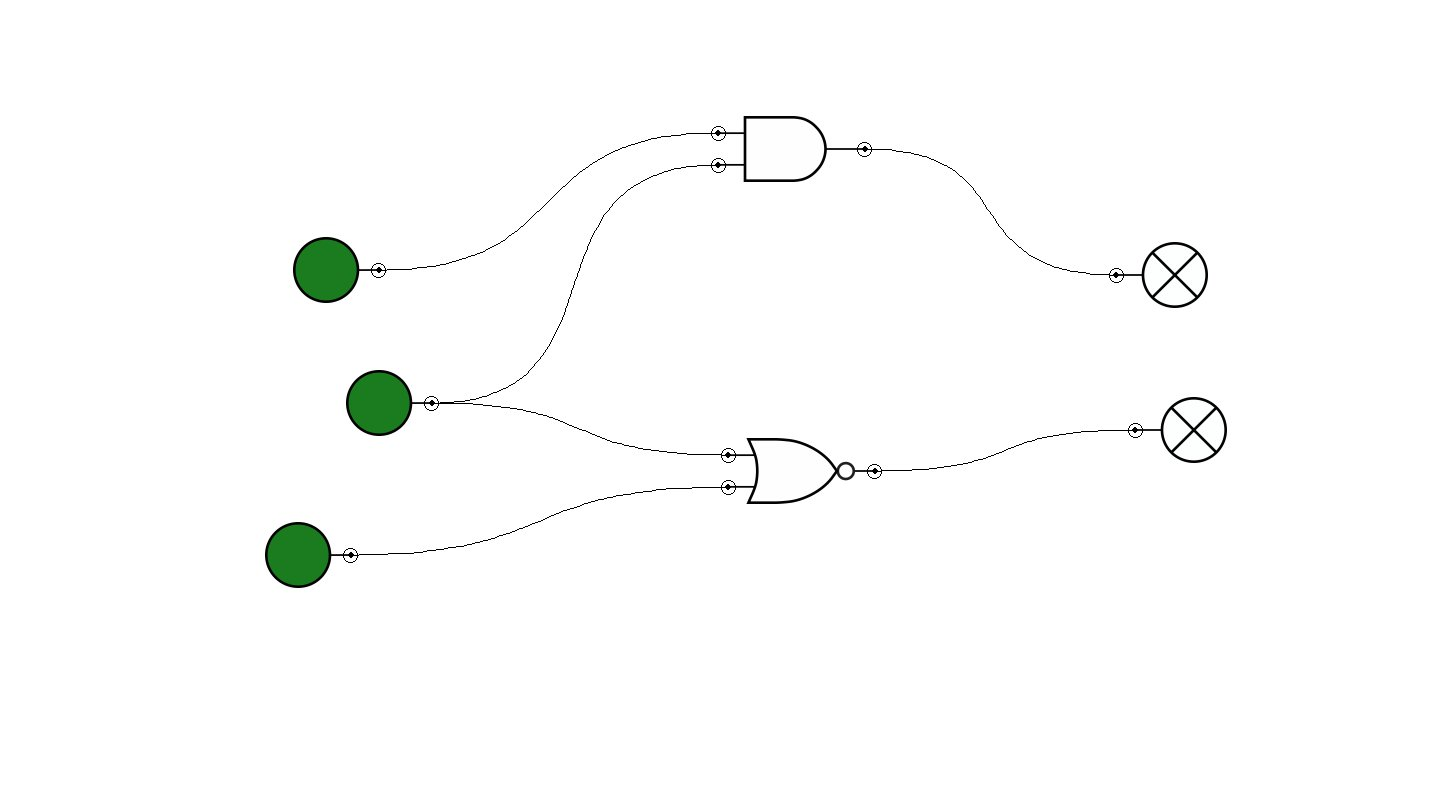and: (711, 116, 872, 182)
bulb: (1128, 397, 1227, 463), (1109, 242, 1208, 308)
nor: (721, 438, 882, 504)
switch_True: (346, 370, 439, 436), (293, 237, 386, 303), (265, 522, 358, 588)
